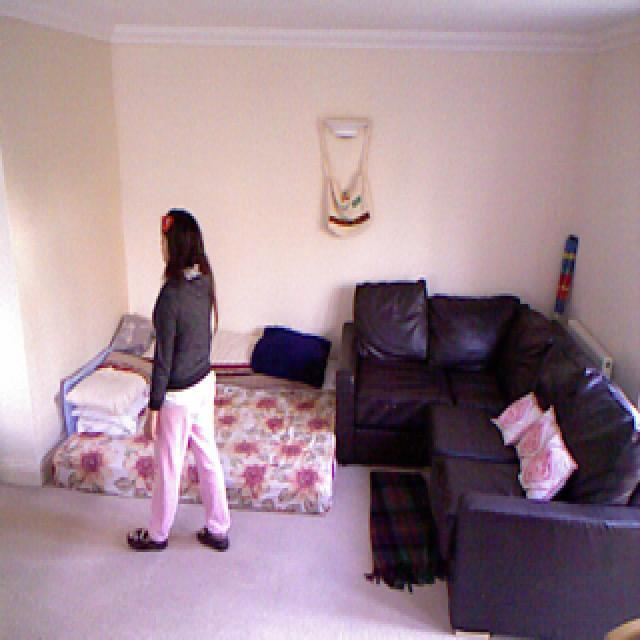walking: (121, 192, 243, 562)
